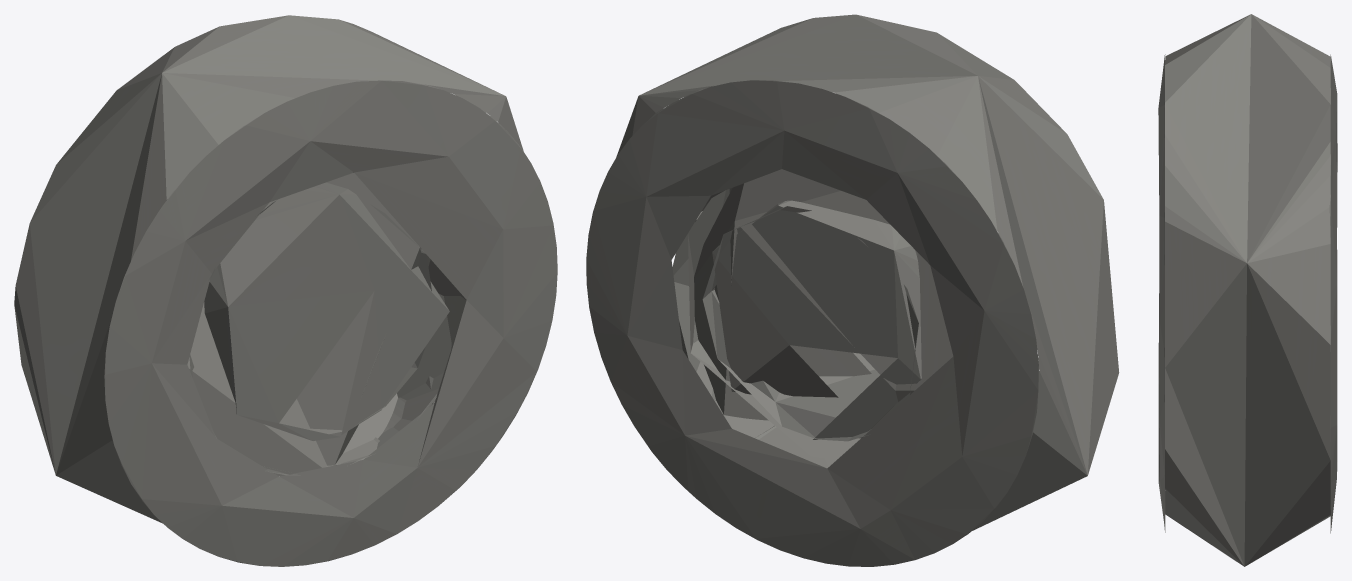
The model's file is misc_tape_refill_a01.glb.
3 views of the same model, side by side, from view 1: azimuth 30°, elevation 25°; view 2: azimuth 150°, elevation 25°; view 3: azimuth 270°, elevation 25° (orthographic). The views are drawn at different scales.
Parts seen in each view (by area): view 1: geometry_0; view 2: geometry_0; view 3: geometry_0.
Part boxes in pixels (bbox=[...]): geometry_0: bbox=[14, 15, 557, 566]; geometry_0: bbox=[586, 14, 1119, 566]; geometry_0: bbox=[1158, 14, 1337, 566].
Size of the model in its own units: 0.4092 by 0.42 by 0.1516.
Materials: 1 (1 with a texture image).
